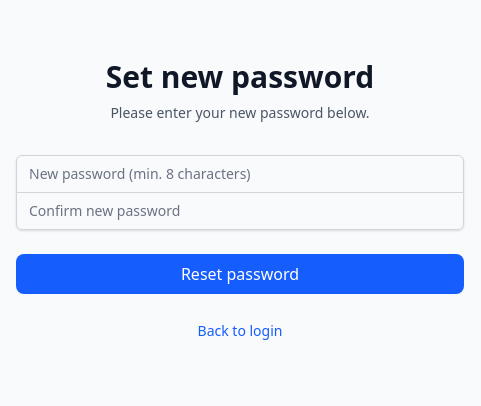
Test: ResetPasswordPage Component › should show error when token is missing
In the password field labelled "New password": {"x": 240, "y": 174} [16,154,464,192], type "validPassword123"
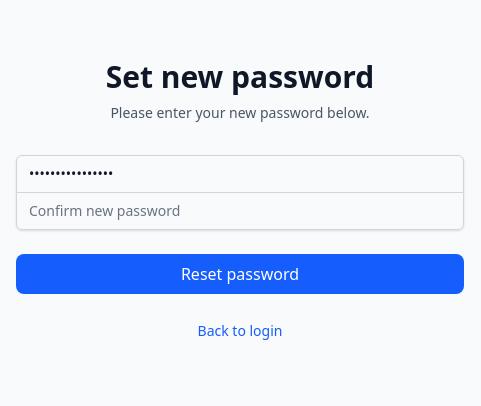
In the password field named "Confirm Password": {"x": 240, "y": 210} [16,192,464,230], type "validPassword123"
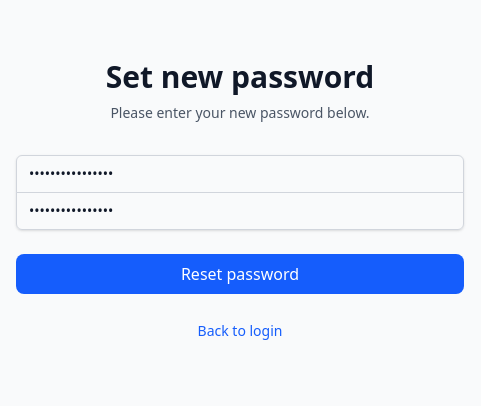
Click the button "Reset password": {"x": 240, "y": 274} [16,254,464,294]
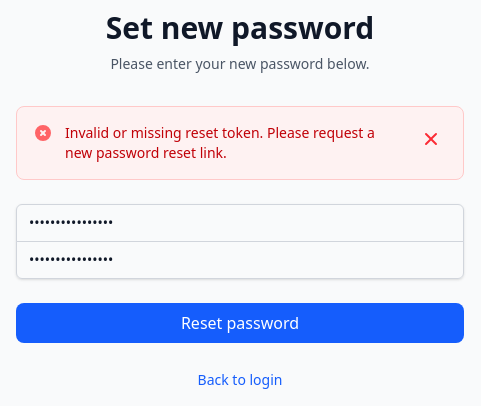
Expected: the text "Invalid or missing reset token" is shown, [65,122,375,162]
